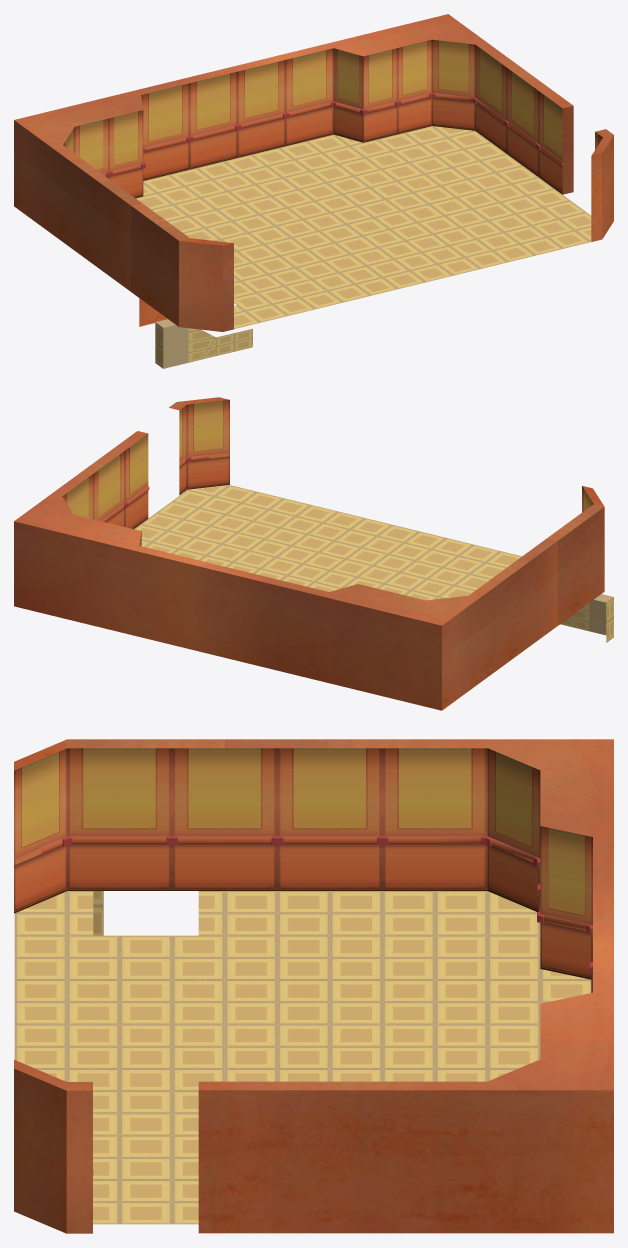
Rendered from mirrored_prefabs.glb.
3 views of the same model, one above another, from view 1: azimuth 30°, elevation 25°; view 2: azimuth 150°, elevation 25°; view 3: azimuth 270°, elevation 25° (orthographic). The views are drawn at different scales.
Visible parts, largest first — view 1: SM_RO_005_Floor_01_0, SM_RO_005_Wall_01_1, SM_RO_005_Wall_01_0, SM_RO_005_Floor_01_1; view 2: SM_RO_005_Wall_01_0, SM_RO_005_Floor_01_0, SM_RO_005_Wall_01_1, SM_RO_005_Floor_01_1; view 3: SM_RO_005_Floor_01_0, SM_RO_005_Wall_01_0, SM_RO_005_Wall_01_1.
Boxes of the visible parts, bbox=[...] form: SM_RO_005_Floor_01_0: bbox=[136, 126, 591, 328]; SM_RO_005_Wall_01_1: bbox=[63, 39, 602, 198]; SM_RO_005_Wall_01_0: bbox=[14, 14, 613, 331]; SM_RO_005_Floor_01_1: bbox=[155, 319, 252, 368]; SM_RO_005_Wall_01_0: bbox=[14, 397, 604, 710]; SM_RO_005_Floor_01_0: bbox=[134, 485, 521, 600]; SM_RO_005_Wall_01_1: bbox=[62, 400, 593, 546]; SM_RO_005_Floor_01_1: bbox=[560, 594, 613, 642]; SM_RO_005_Floor_01_0: bbox=[14, 891, 591, 1224]; SM_RO_005_Wall_01_0: bbox=[14, 739, 613, 1233]; SM_RO_005_Wall_01_1: bbox=[14, 748, 592, 1175].
Bounding box in the file's own units: 16.27 × 4.43 × 11.41.
Materials: 3 (3 with a texture image).
